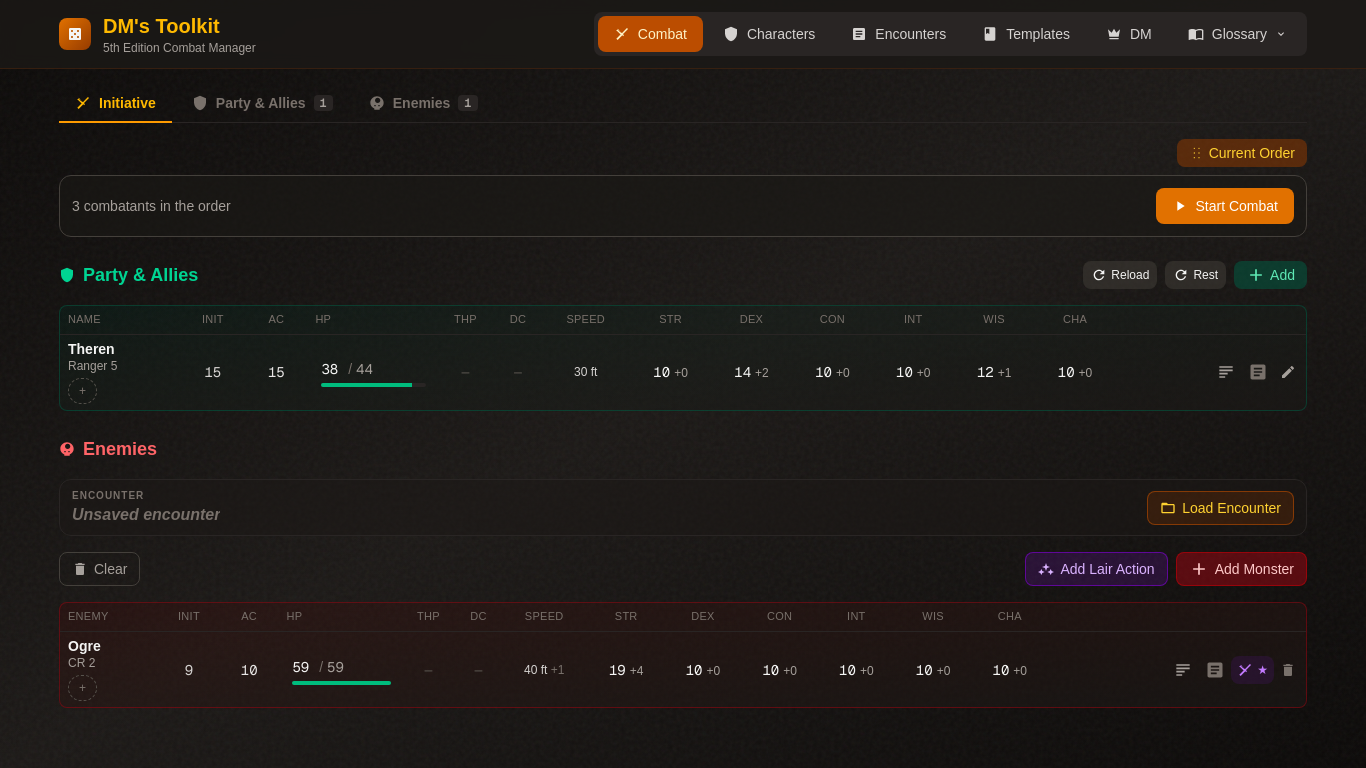
Test case: CombatPage — combatant detail drawer › shows an enemy's full stat block from the card's Details button
What coordinates should you click on to do the following:
click the tab "Enemies 1"
I would click on:
 (423, 104)
Its box is [353,85,494,123].
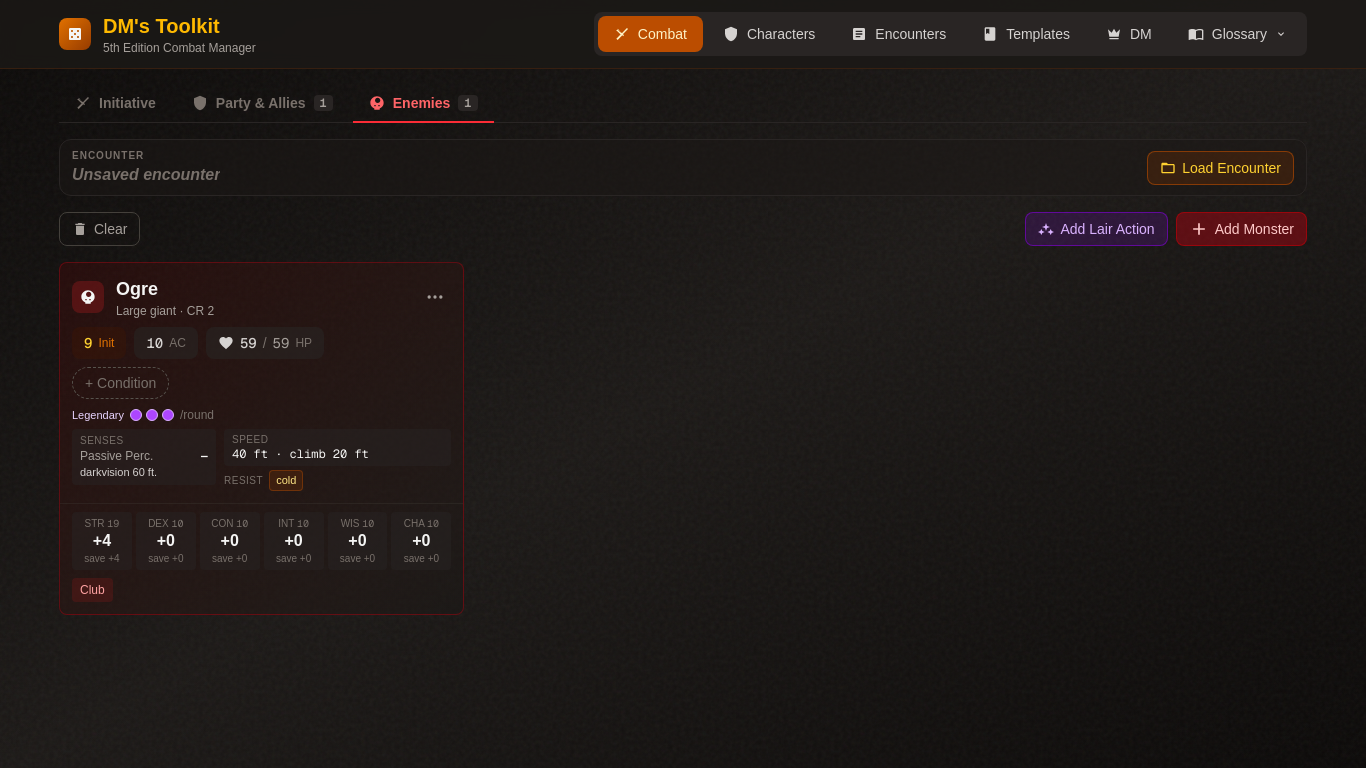
What coordinates should you click on to do the following:
click the button with aria-label "Details for Ogre"
I would click on:
 (137, 289)
Its box is [116,275,158,303].
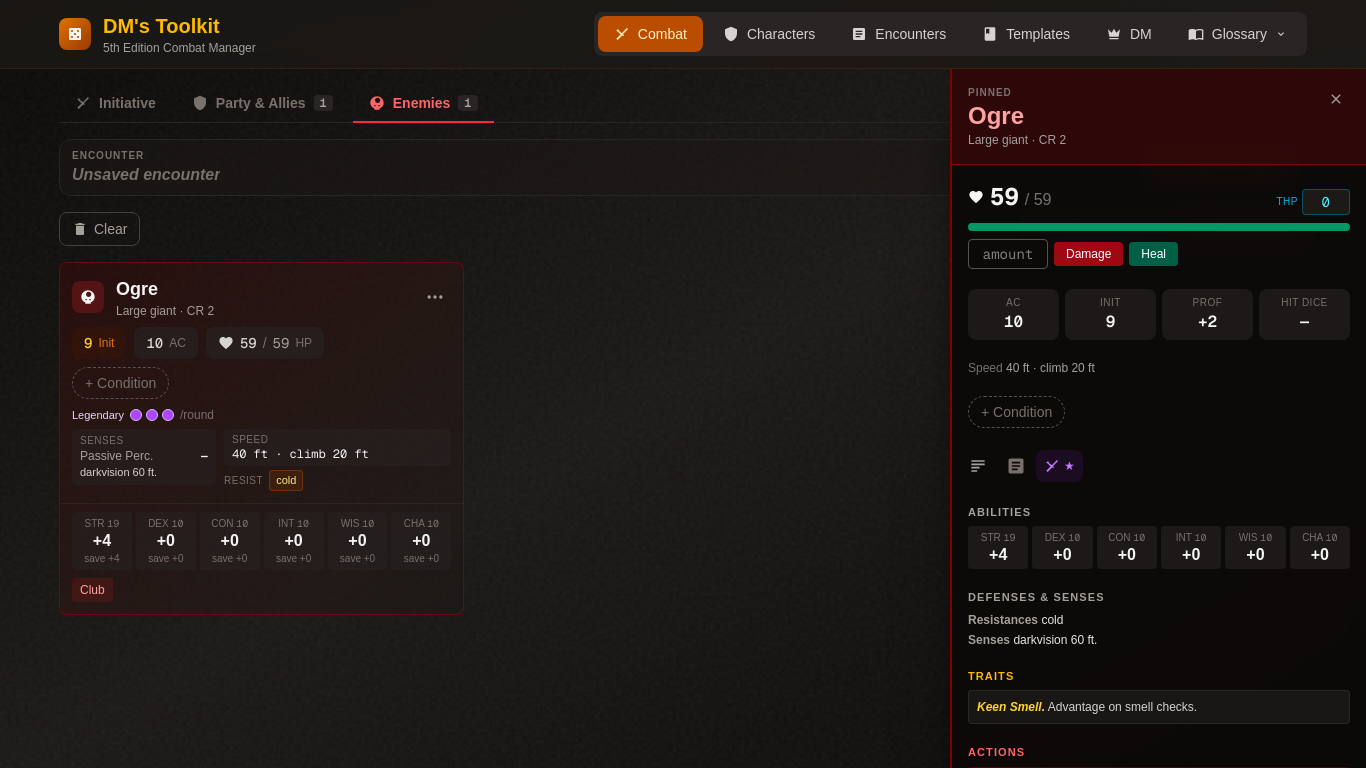
expect the button with aria-label "Details for Ogre" reads "Ogre": met, box [116,275,158,303]
expect the text "Large giant · CR 2" below "Pinned" is shown: met, box [968,133,1066,147]
expect the element with test id "drawer-speed" shows "40 ft · climb 20 ft": met, box [1006,360,1095,374]
